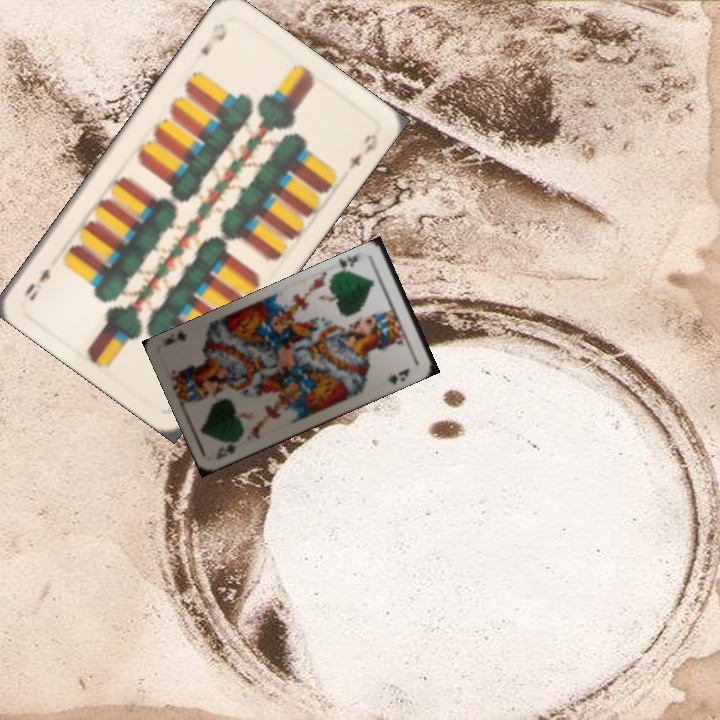E9: (196, 19, 230, 59)
GK: (334, 251, 362, 276), (211, 439, 240, 462)
